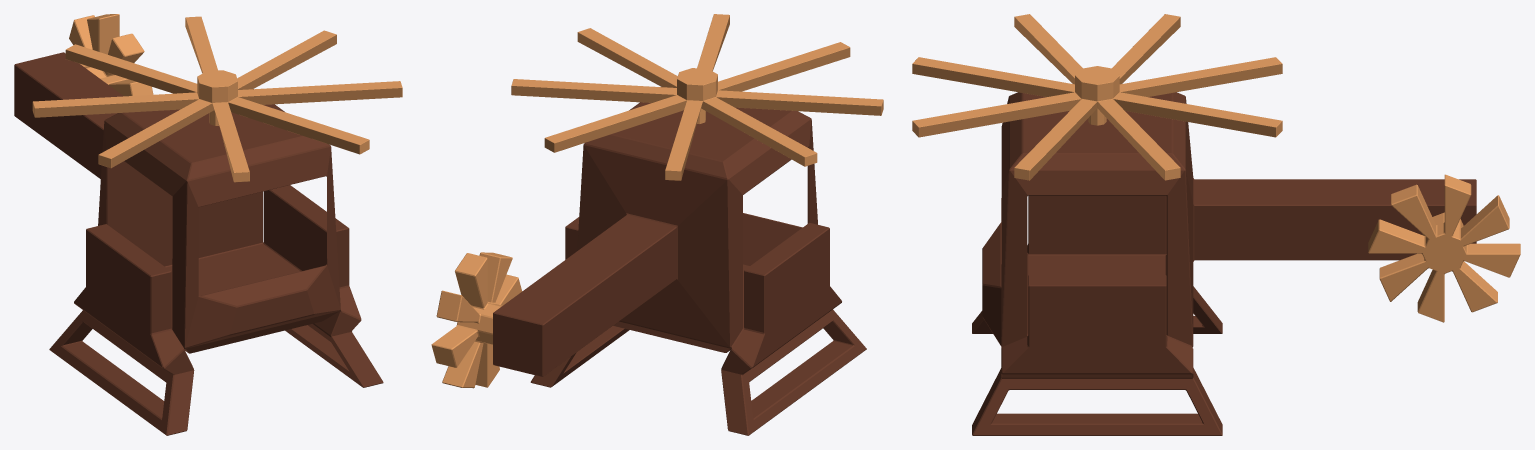
File: adimopter.fbx
3 renders of one model, left to right at view 1: azimuth 30°, elevation 25°; view 2: azimuth 150°, elevation 25°; view 3: azimuth 270°, elevation 25°, orthographic. The views are drawn at different scales.
Parts seen in each view (by area): view 1: Cube, Circle, Cube.001; view 2: Cube, Circle, Cube.001; view 3: Cube, Circle, Cube.001.
Boxes of the visible parts, x1=… form: Cube: x1=14, y1=52, x2=383, y2=435; Circle: x1=32, y1=16, x2=402, y2=182; Cube.001: x1=69, y1=14, x2=153, y2=96; Cube: x1=493, y1=87, x2=866, y2=435; Circle: x1=511, y1=14, x2=883, y2=180; Cube.001: x1=431, y1=252, x2=522, y2=388; Cube: x1=972, y1=92, x2=1476, y2=435; Circle: x1=912, y1=14, x2=1282, y2=180; Cube.001: x1=1368, y1=174, x2=1520, y2=322.
Bounding box in the file's own units: 386 × 351 × 634.
